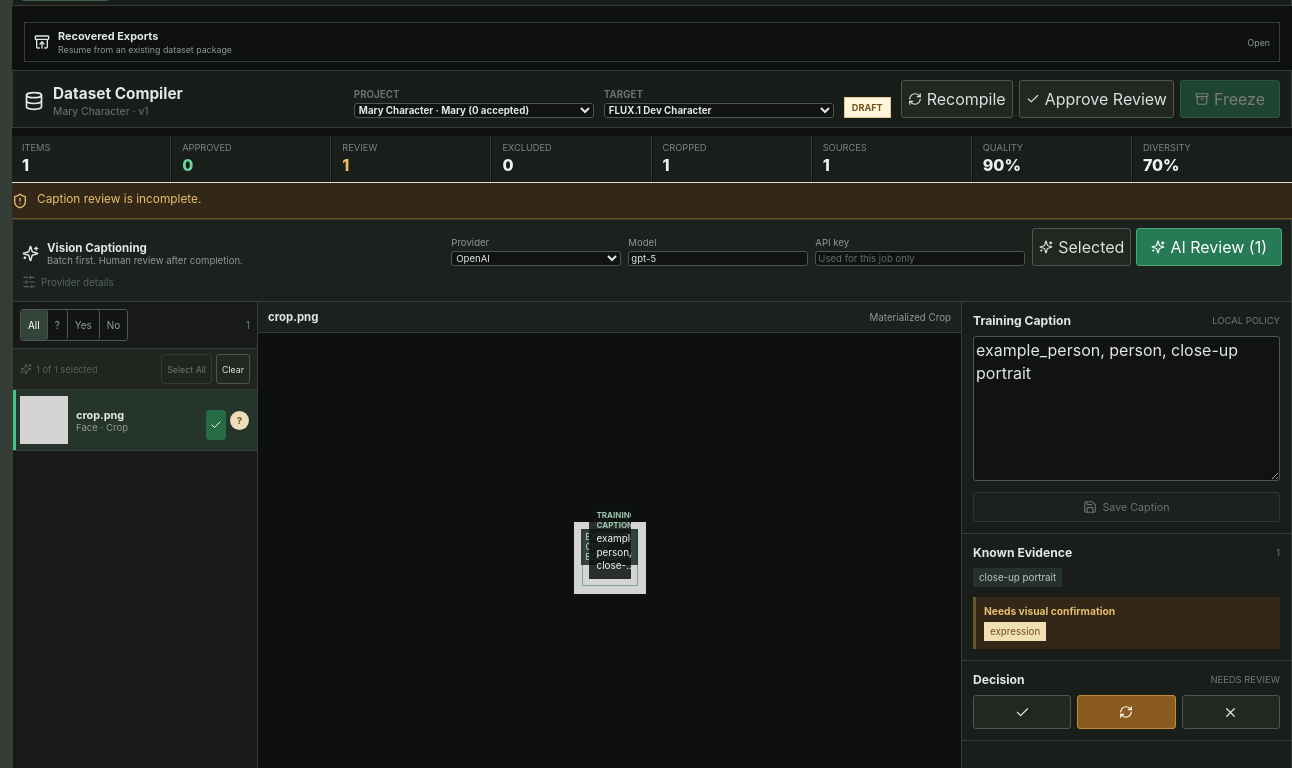
Test: TrainTab › edits and approves an individual caption record
Replace the text in the text box named "Training caption" with "example_person, smiling person, close-up portrait" at (1126, 409), box [973,336,1280,481]
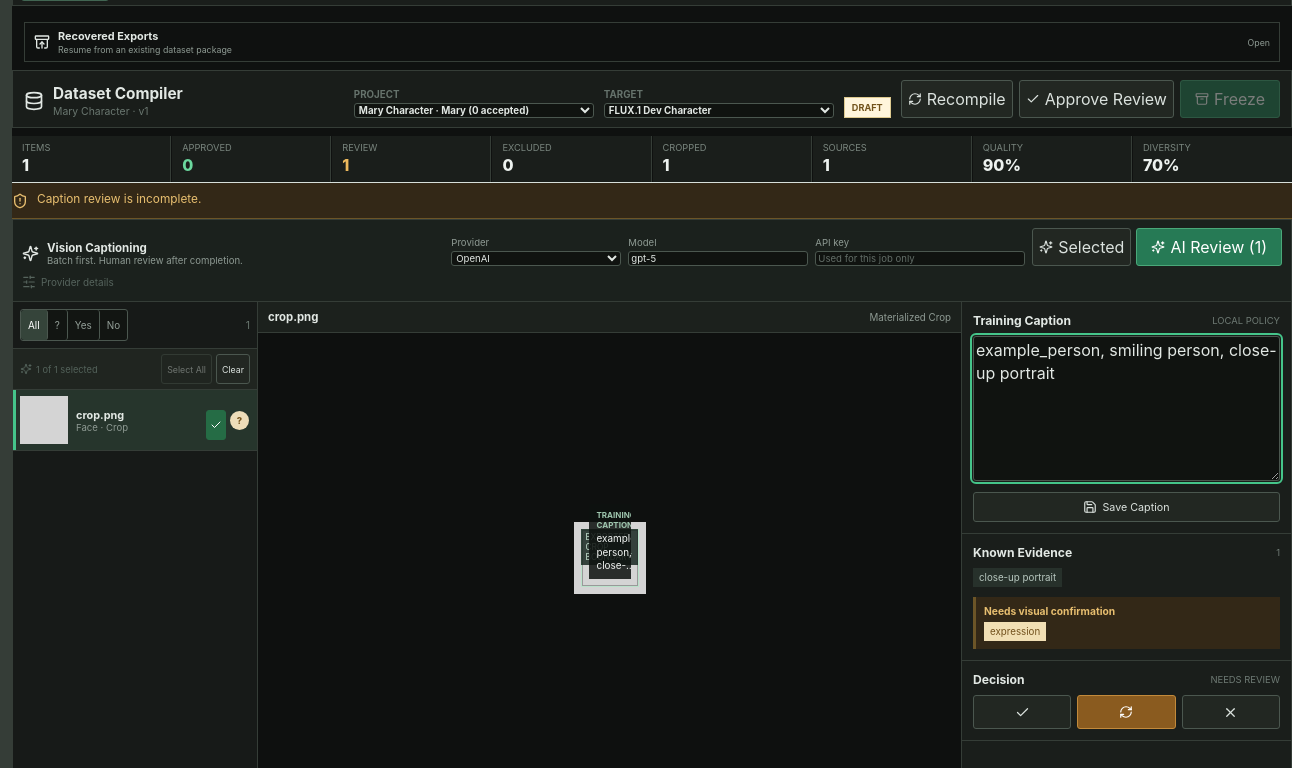
Click the button "Save Caption" at (1126, 507), box [973,492,1280,522]
(page scrolled)
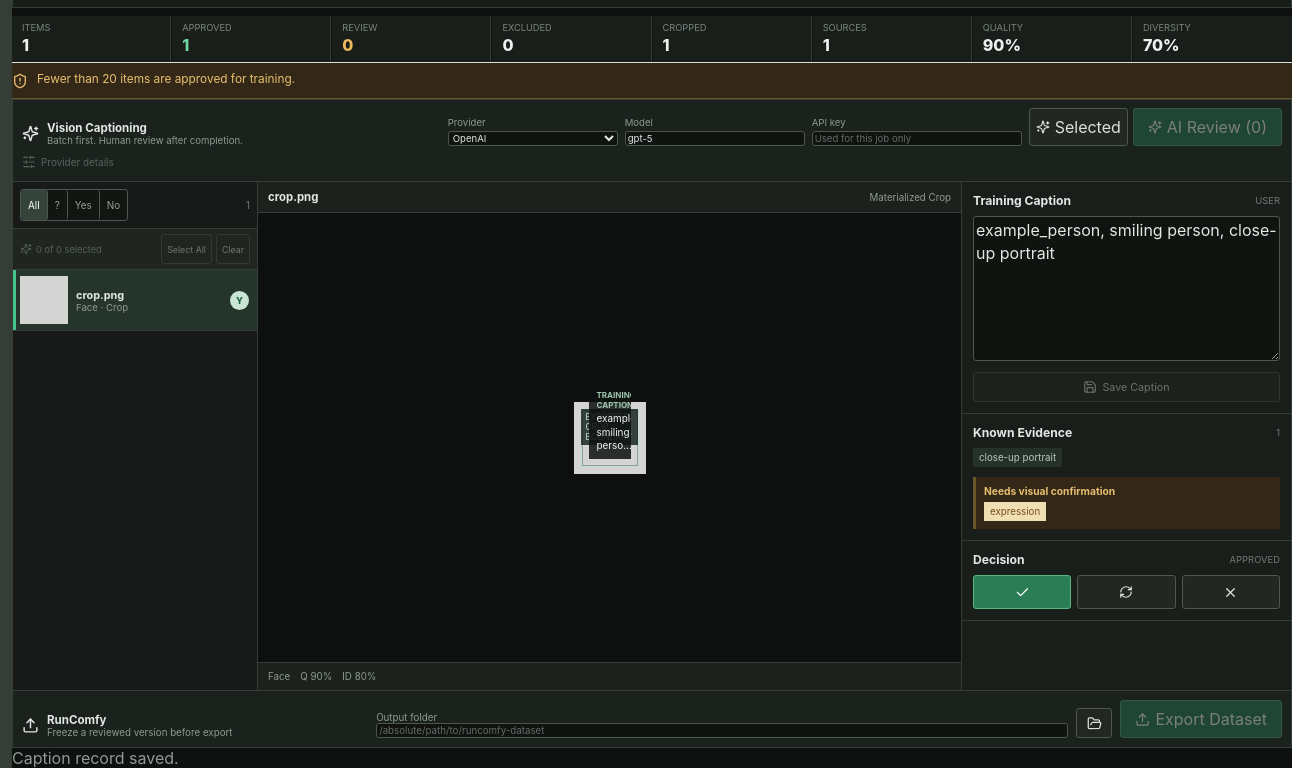
Now the text "Caption record saved." is shown, box [12,748,179,767]
